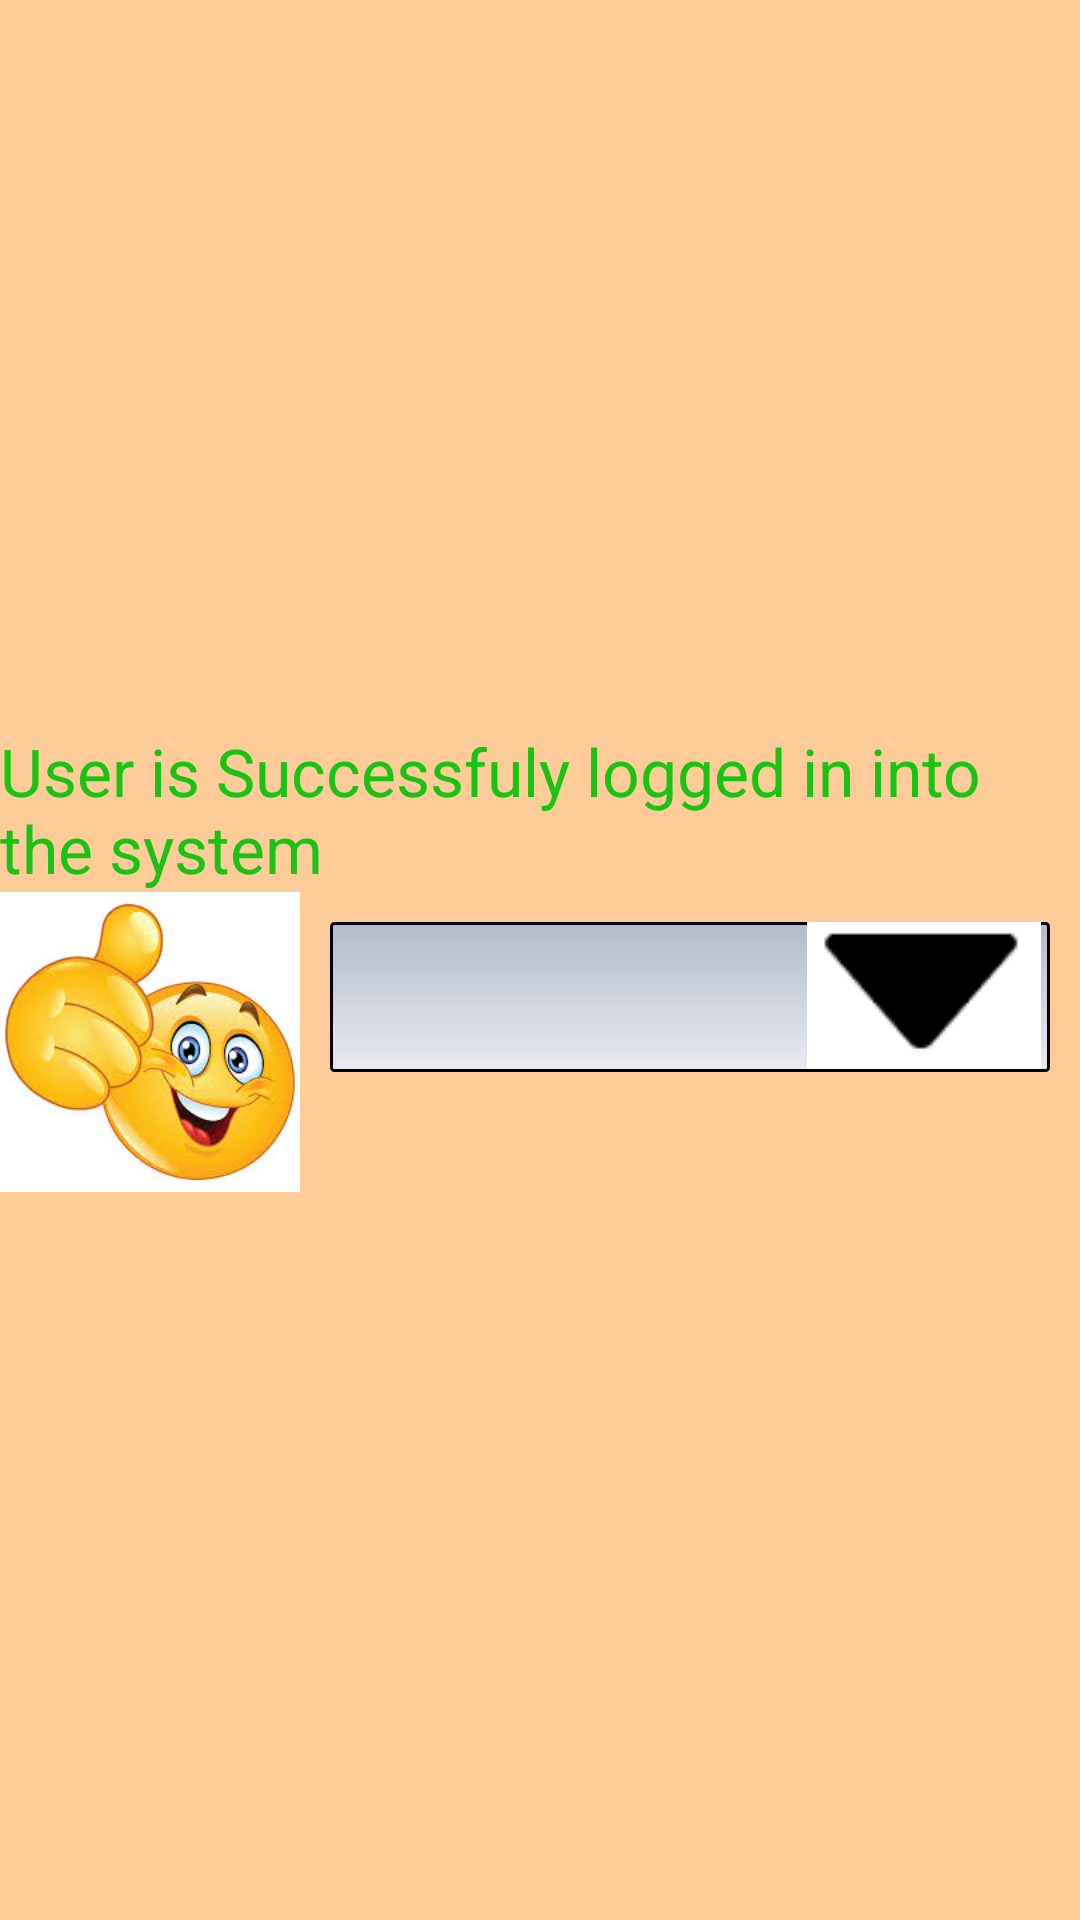

Icon click points for this 1080px x 1920px phone screenshot, format [x,y]:
thumbsup: [150,1042]
